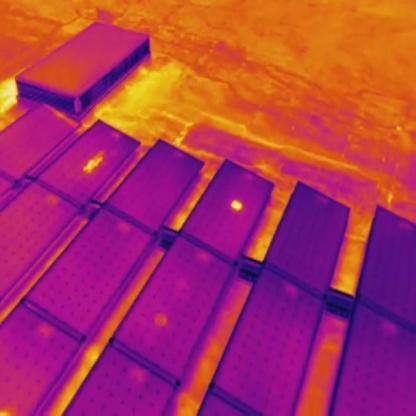anomaly: (81, 151, 108, 175), (228, 198, 245, 212)
